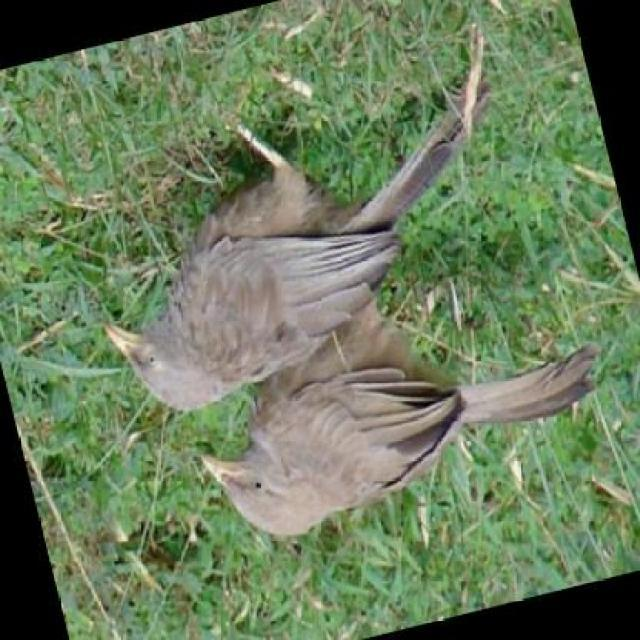Bird: (214, 344, 605, 554), (105, 142, 405, 400)
